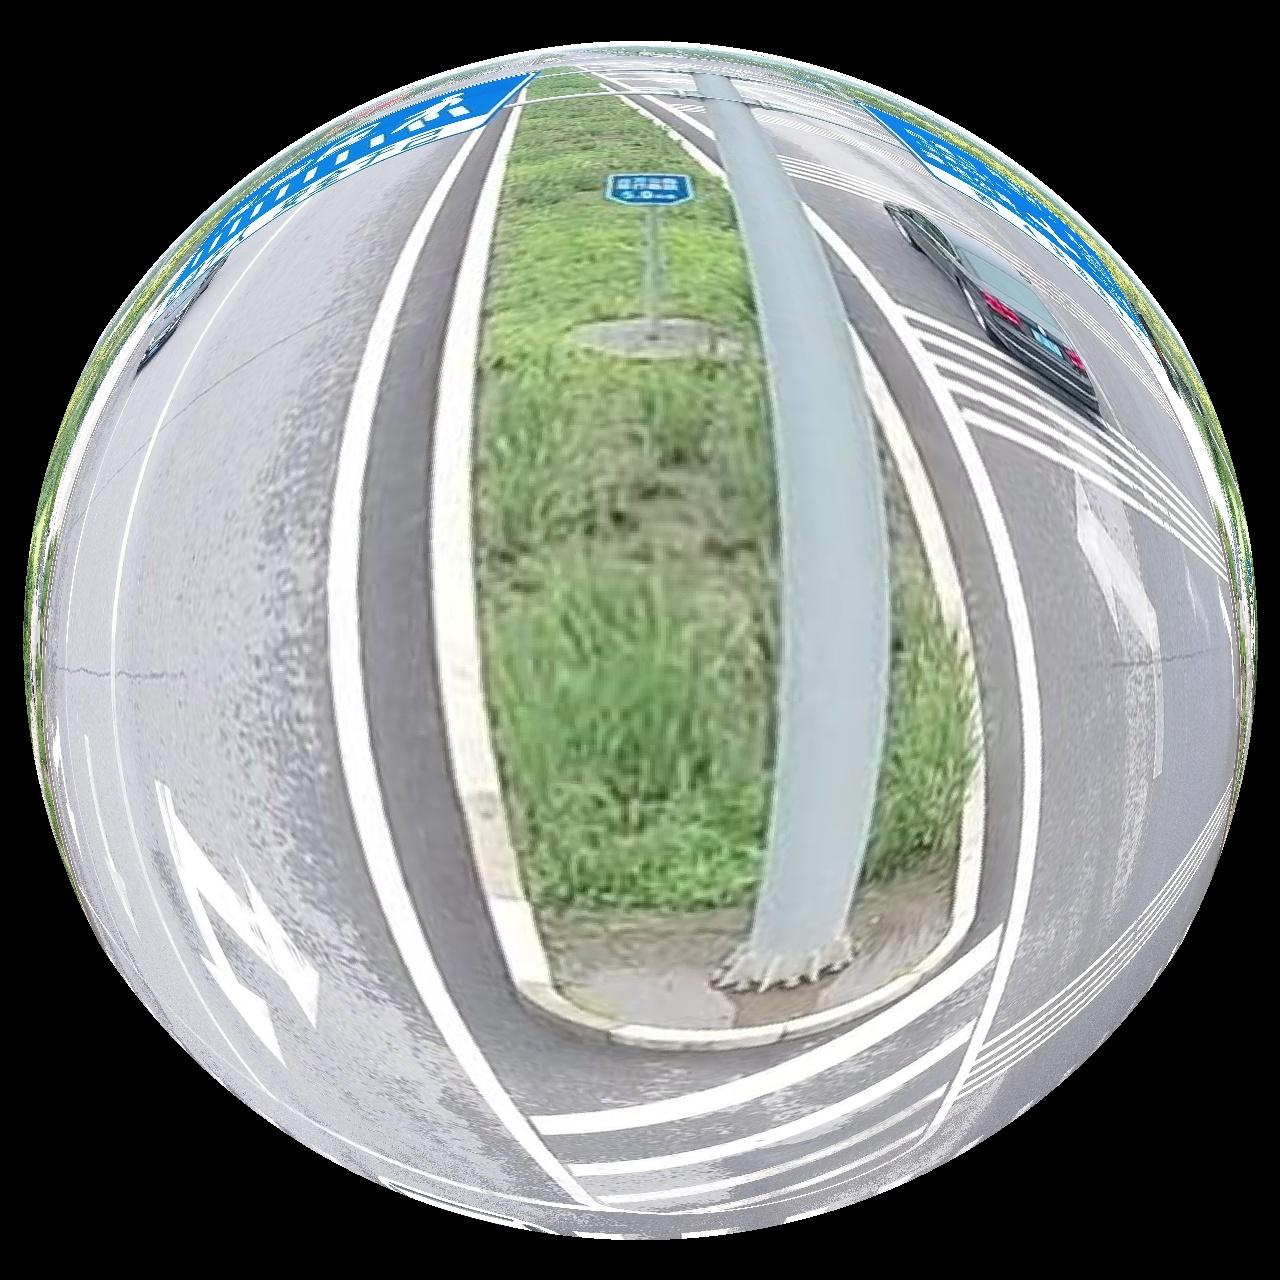cars: (886, 201, 1104, 418)
trees: (475, 73, 778, 914), (861, 435, 978, 888)
